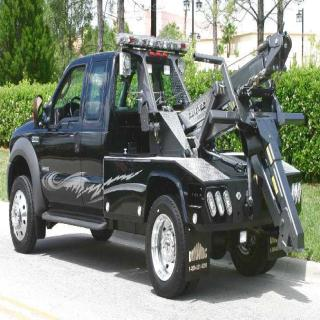Towing_truck: (6, 28, 306, 300)
